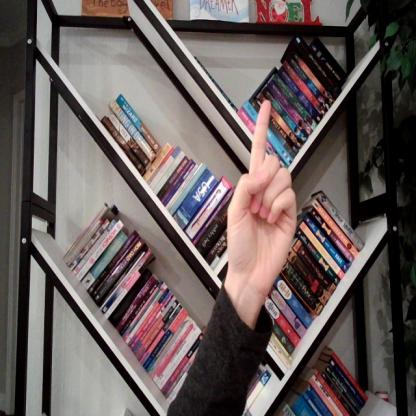one: (228, 97, 300, 293)
